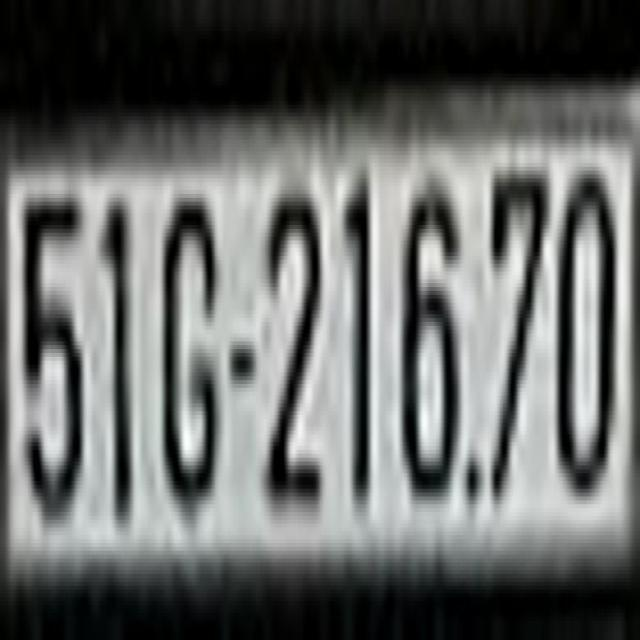0: (558, 143, 616, 504)
1: (96, 166, 140, 532), (342, 143, 378, 504)
2: (268, 170, 324, 504)
5: (23, 166, 82, 532)
6: (403, 174, 458, 500)
7: (486, 151, 554, 512)
G: (158, 209, 219, 516)
